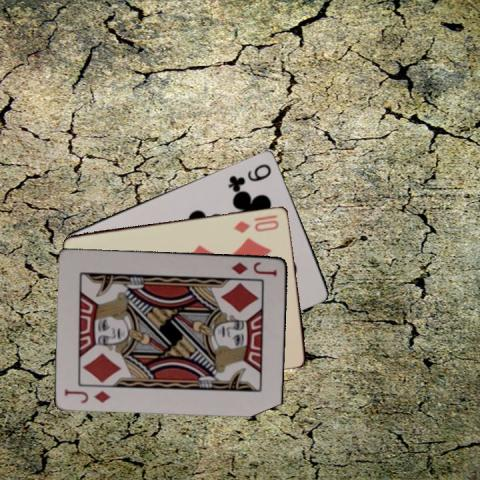10d: (231, 211, 281, 234)
9c: (225, 160, 273, 190)
Jd: (228, 258, 279, 278), (61, 385, 112, 404)
